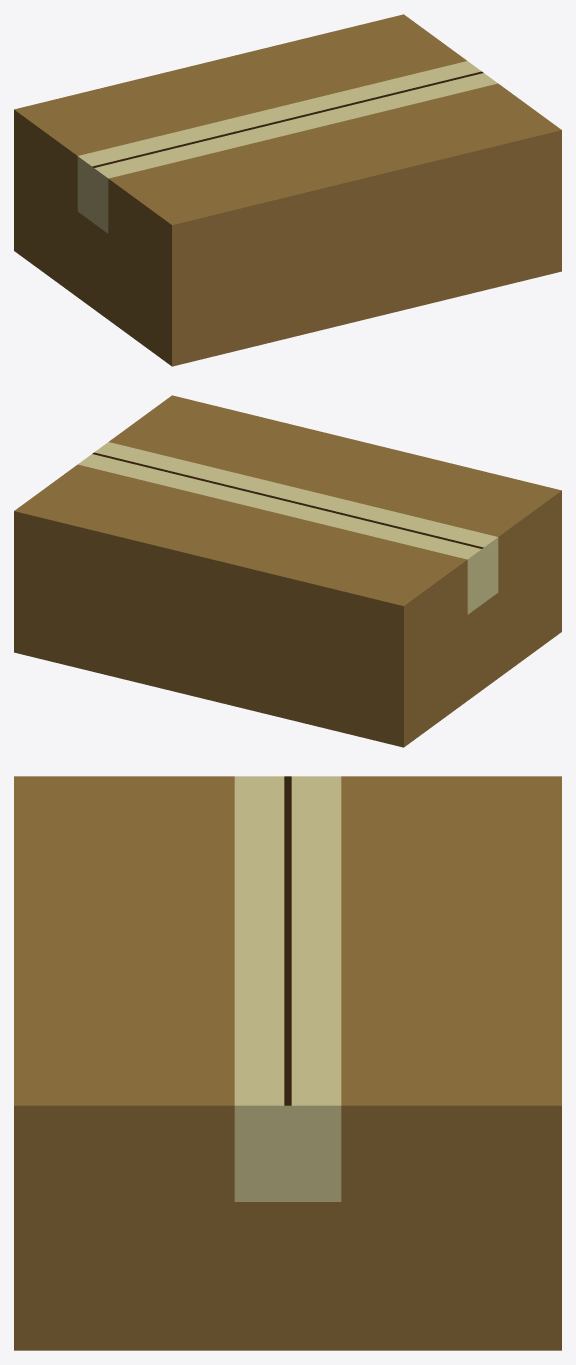
The model's file is package.fbx.
3 views of the same model, one above another, from view 1: azimuth 30°, elevation 25°; view 2: azimuth 150°, elevation 25°; view 3: azimuth 270°, elevation 25° (orthographic). The views are drawn at different scales.
Parts seen in each view (by area): view 1: Package; view 2: Package; view 3: Package.
Boxes of the visible parts, x1,y1,x2,y2 form: Package: (14, 14, 561, 366); Package: (14, 395, 561, 747); Package: (14, 776, 561, 1350).
Size of the model in its own units: 41.35 by 29.06 by 14.34.
